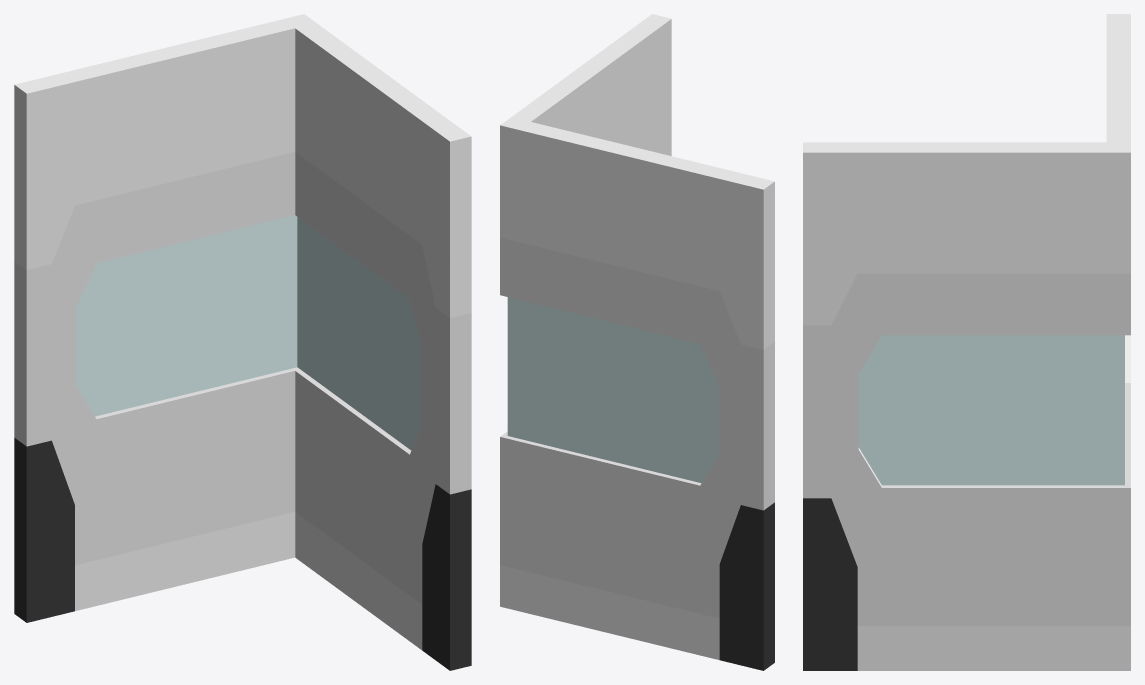
The picture shows the model from 3 angles, left to right: view 1: azimuth 30°, elevation 25°; view 2: azimuth 150°, elevation 25°; view 3: azimuth 270°, elevation 25°; orthographic projection. The views are drawn at different scales.
Parts seen in each view (by area): view 1: Esquina; view 2: Esquina; view 3: Esquina.
Part boxes in pixels (x1,y1,x2,y2): Esquina: (14, 14, 471, 670); Esquina: (500, 14, 774, 670); Esquina: (803, 14, 1130, 670).
Size of the model in its own units: 1620 by 2827 by 1620.
